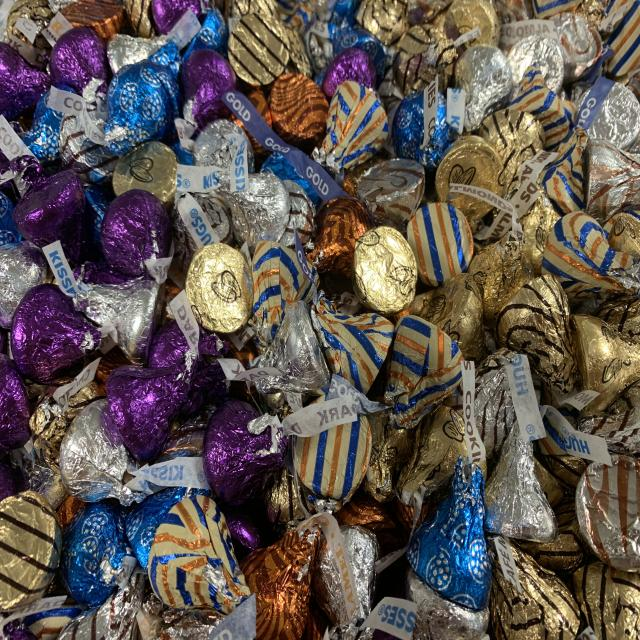kisses: (71, 266, 165, 369), (58, 396, 143, 506), (242, 300, 334, 398), (485, 425, 560, 543), (212, 165, 293, 250), (321, 520, 380, 634), (406, 567, 490, 640), (455, 45, 508, 138), (578, 74, 640, 152), (189, 118, 254, 182), (3, 241, 48, 327), (507, 34, 564, 88), (106, 30, 170, 74)
